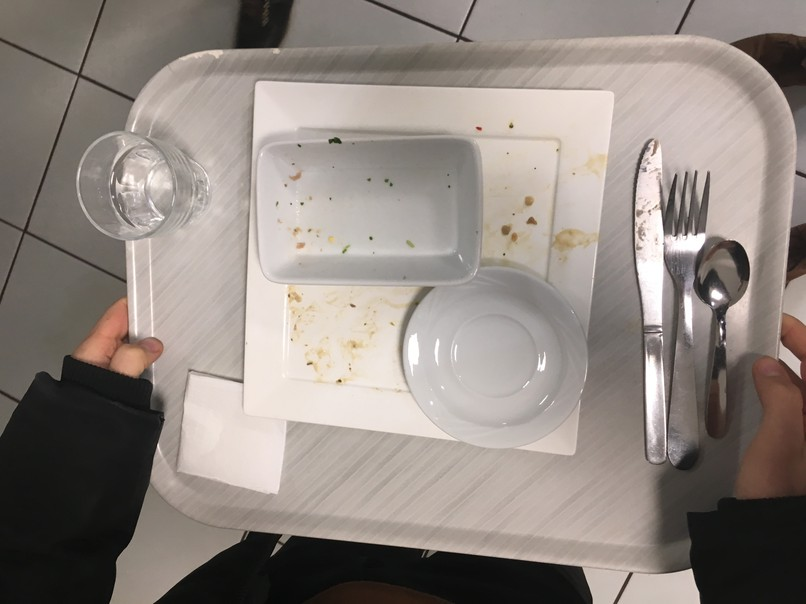cup: (68, 128, 228, 246)
cutlery: (662, 166, 711, 481), (629, 135, 674, 463), (696, 233, 759, 437)
trash: (181, 368, 291, 498)
